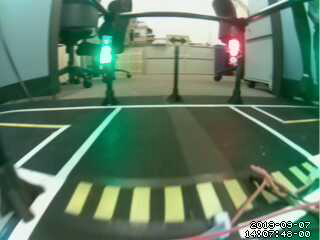Left_Right_sign: (166, 34, 192, 49)
Traffic_light_green: (100, 35, 110, 62)
Traffic_light_red: (226, 38, 241, 68)
